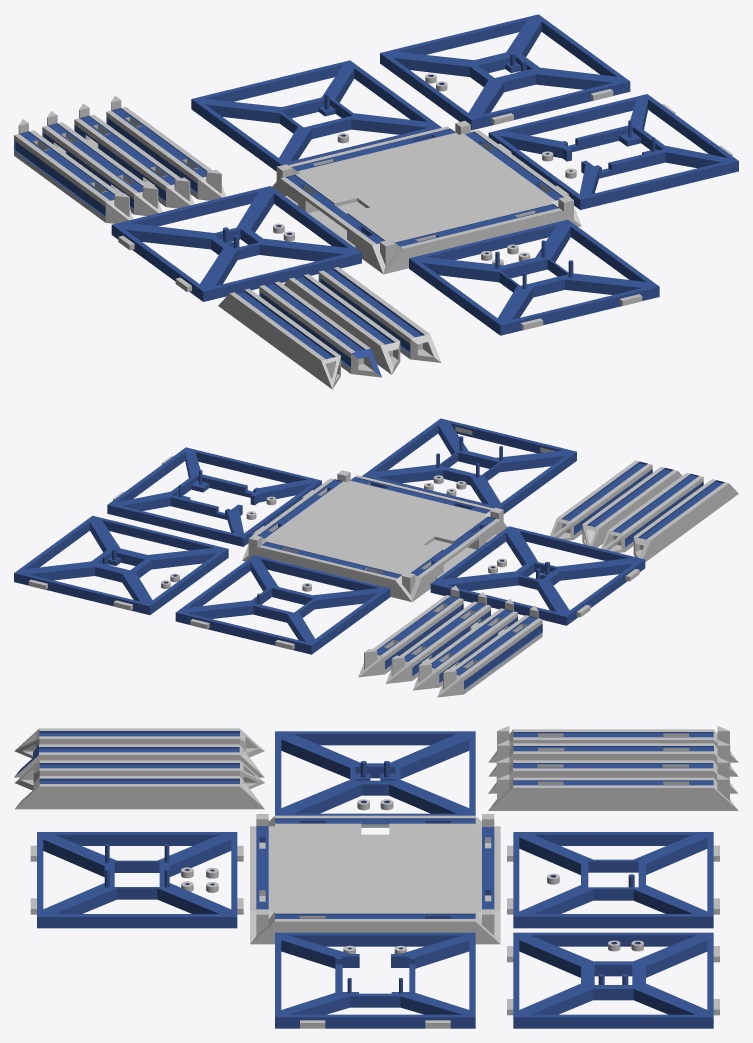
The model's file is weather_station_frame_for_print.obj.
The picture shows the model from 3 angles, top to bottom: view 1: azimuth 30°, elevation 25°; view 2: azimuth 150°, elevation 25°; view 3: azimuth 270°, elevation 25°; orthographic projection. The views are drawn at different scales.
Visible parts, largest first — view 1: MainFrame.002; view 2: MainFrame.002; view 3: MainFrame.002.
Part boxes in pixels (x1,y1,x2,y2): MainFrame.002: (14, 14, 738, 389); MainFrame.002: (14, 418, 738, 697); MainFrame.002: (14, 726, 738, 1028).
Bounding box in the file's own units: 0.275 × 0.015 × 0.2892.
